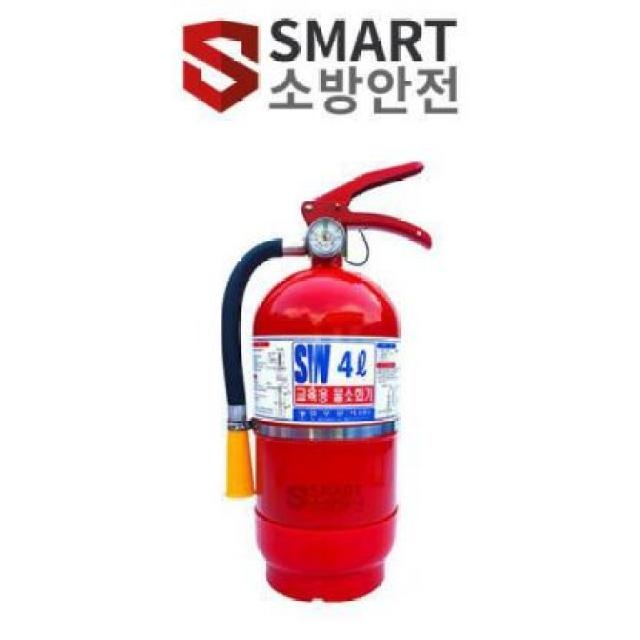fire extinguisher: (220, 159, 432, 604)
